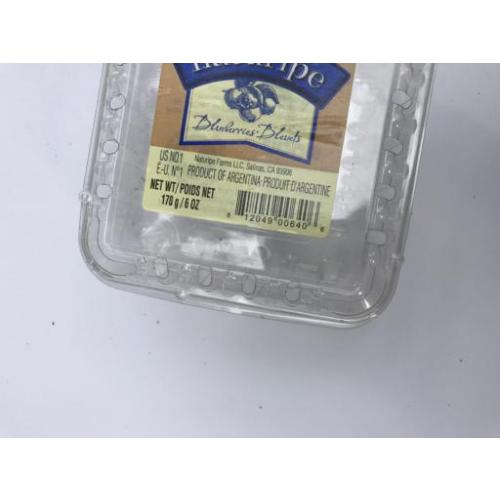plastic: (80, 65, 438, 329)
